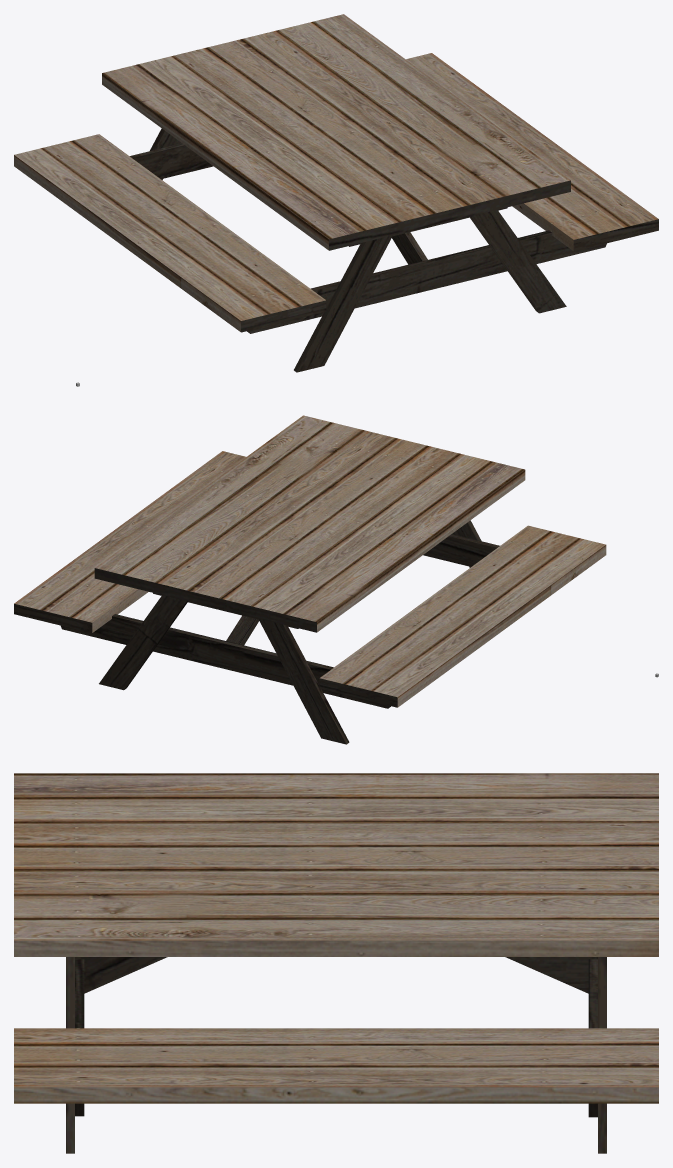
Rendered from picnic_table.fbx.
3 views of the same model, one above another, from view 1: azimuth 30°, elevation 25°; view 2: azimuth 150°, elevation 25°; view 3: azimuth 270°, elevation 25° (orthographic). The views are drawn at different scales.
Visible parts, largest first — view 1: polySurface1; view 2: polySurface1; view 3: polySurface1.
Boxes of the visible parts, x1,y1,x2,y2 form: polySurface1: (14,14,658,372); polySurface1: (14,415,606,744); polySurface1: (14,773,658,1153).
Size of the model in its own units: 200 by 51.83 by 149.
2 materials, 1 textured.
